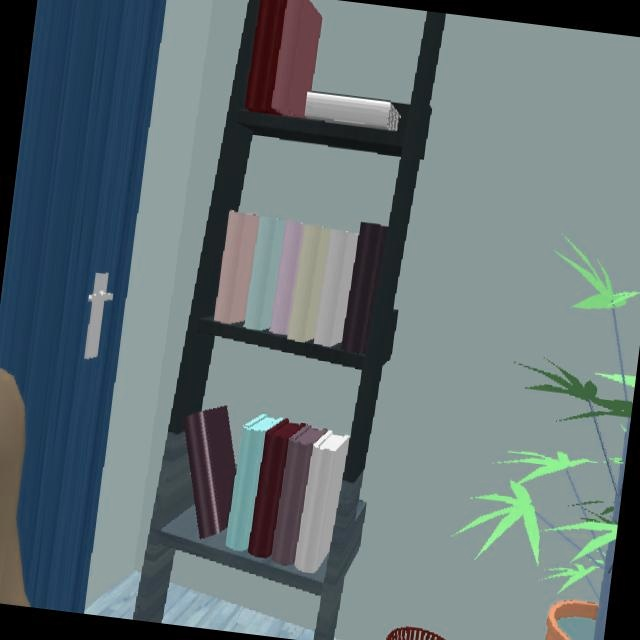book: (170, 405, 349, 589), (213, 211, 386, 368), (238, 0, 403, 147)
bookshelf: (315, 11, 444, 640), (151, 0, 259, 531)
